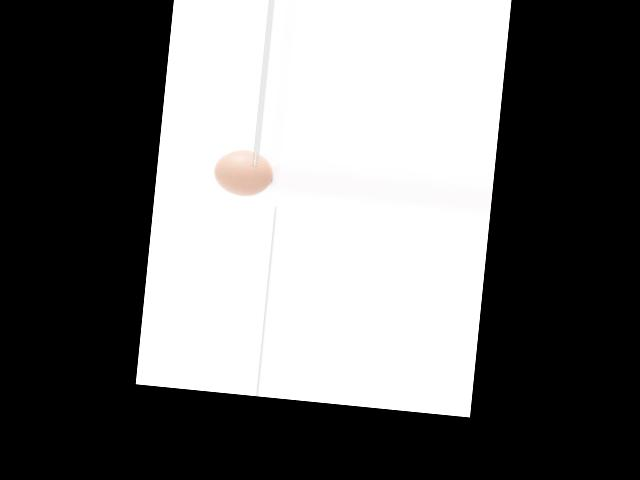egg: (212, 147, 273, 198)
